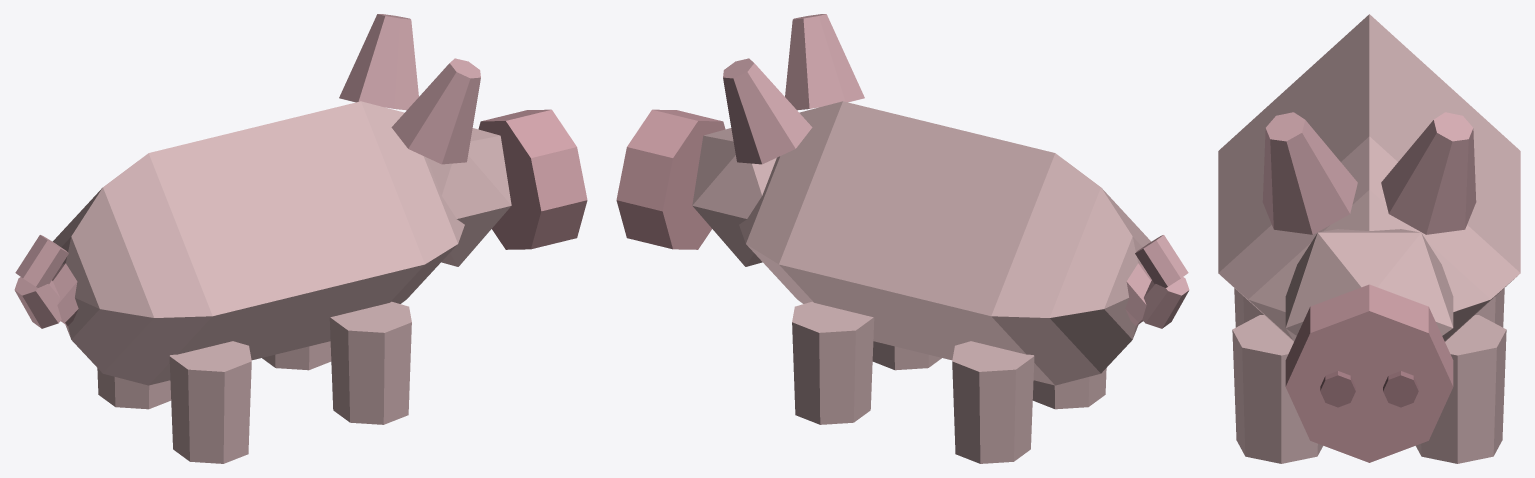
3 renders of one model, left to right at view 1: azimuth 30°, elevation 25°; view 2: azimuth 150°, elevation 25°; view 3: azimuth 270°, elevation 25°, orthographic. The views are drawn at different scales.
Visible parts, largest first — view 1: part0, part2, part10, part8, part1, part6, part5, part9, part13, part12, part7, part11; view 2: part0, part2, part9, part7, part1, part5, part6, part10, part13, part12, part8, part11; view 3: part0, part2, part1, part7, part8, part5, part6, part3, part4, part9, part10.
Boxes of the visible parts, box(x1,y1,x2,y2) form: part0: box(52, 101, 464, 385); part2: box(478, 109, 587, 249); part10: box(169, 341, 251, 463); part8: box(329, 301, 411, 424); part1: box(427, 128, 511, 266); part6: box(391, 58, 480, 164); part5: box(339, 14, 418, 110); part9: box(97, 368, 171, 409); part13: box(15, 235, 68, 287); part12: box(14, 277, 61, 328); part7: box(262, 341, 331, 370); part11: box(52, 263, 78, 325); part0: box(739, 101, 1151, 385); part2: box(616, 109, 725, 249); part9: box(952, 341, 1034, 463); part7: box(792, 301, 874, 424); part1: box(692, 128, 776, 266); part5: box(723, 58, 812, 164); part6: box(785, 14, 864, 110); part10: box(1032, 368, 1106, 409); part13: box(1135, 235, 1188, 287); part12: box(1142, 277, 1189, 328); part8: box(872, 341, 941, 370); part11: box(1125, 263, 1151, 325); part0: box(1218, 14, 1520, 341); part2: box(1285, 284, 1453, 462); part1: box(1285, 229, 1453, 340); part7: box(1416, 315, 1506, 463); part8: box(1232, 315, 1322, 463); part5: box(1381, 112, 1476, 234); part6: box(1262, 112, 1357, 234); part3: box(1383, 371, 1418, 407); part4: box(1320, 371, 1355, 407); part9: box(1475, 288, 1504, 327); part10: box(1234, 288, 1263, 327).
Size of the model in its own units: 3.52 by 2 by 1.44.
